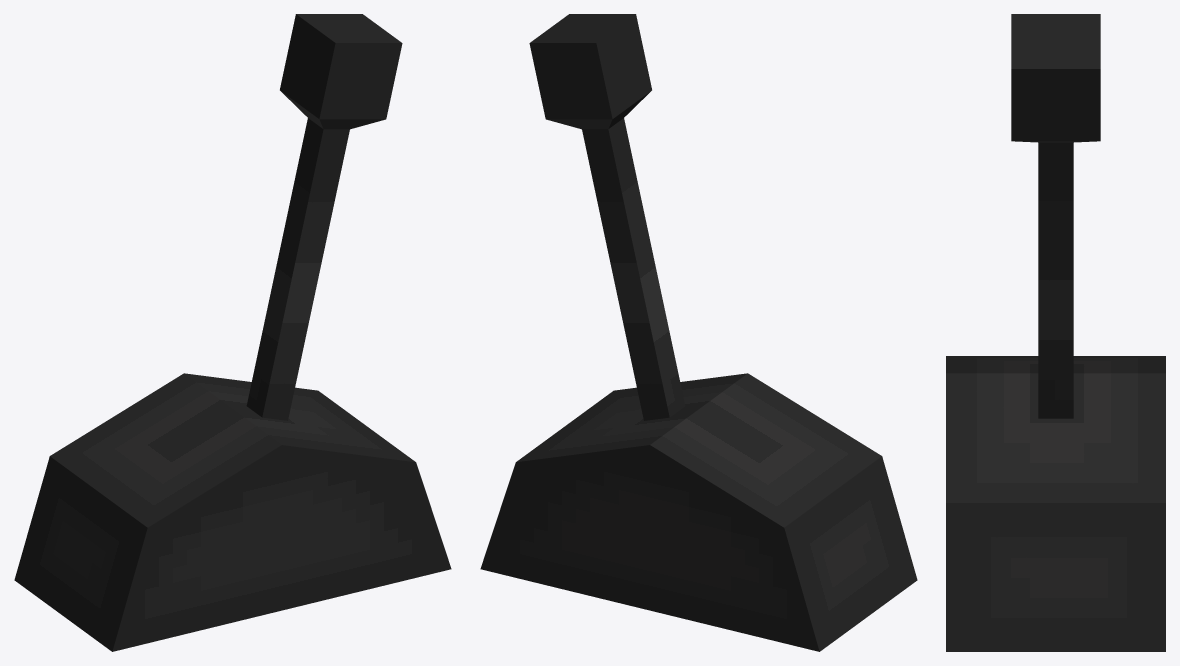
File: lever0010.obj
3 renders of one model, left to right at view 1: azimuth 30°, elevation 25°; view 2: azimuth 150°, elevation 25°; view 3: azimuth 270°, elevation 25°, orthographic. The views are drawn at different scales.
Visible parts, largest first — view 1: Cube.018, Cube.019; view 2: Cube.018, Cube.019; view 3: Cube.018, Cube.019.
Boxes of the visible parts, x1,y1,x2,y2 form: Cube.018: (14,373,451,651); Cube.019: (246,14,402,420); Cube.018: (480,373,917,651); Cube.019: (529,14,685,420); Cube.018: (946,356,1165,651); Cube.019: (1011,14,1100,418).
Size of the model in its own units: 32 by 48.08 by 16.
